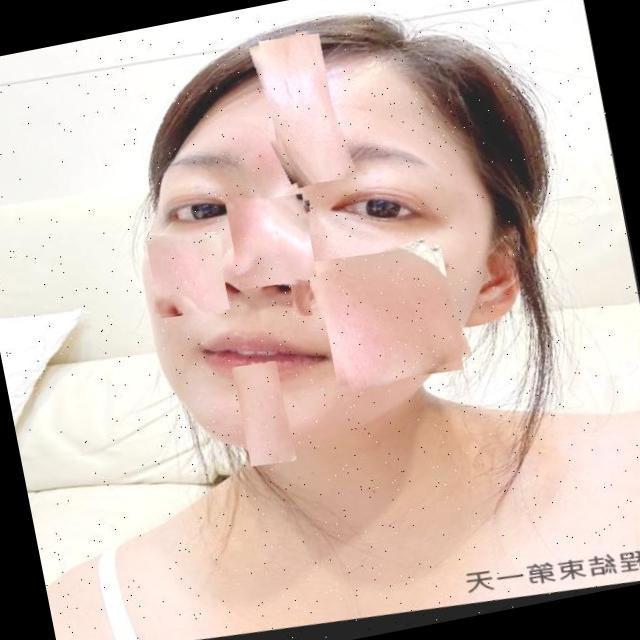redness: (309, 239, 474, 399), (250, 35, 357, 192), (233, 365, 298, 471), (234, 201, 311, 290), (152, 240, 227, 320), (241, 134, 320, 206), (294, 284, 312, 321)
